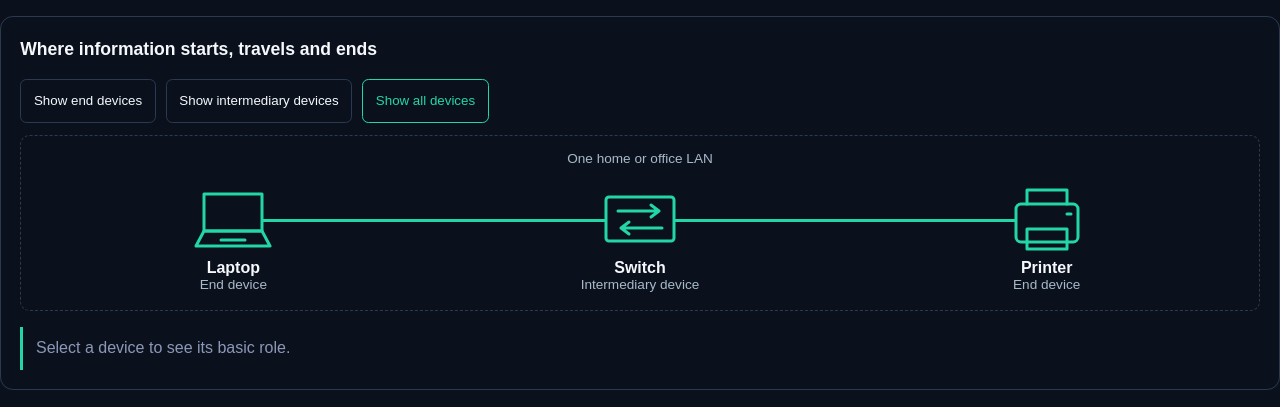
Scenario: NetworkBasicsDiagram › distinguishes end devices from the intermediary without removing devices
The width and height of the screenshot is (1280, 407).
Click the button "Show end devices". click: (88, 101)
box: [20,79,156,123]
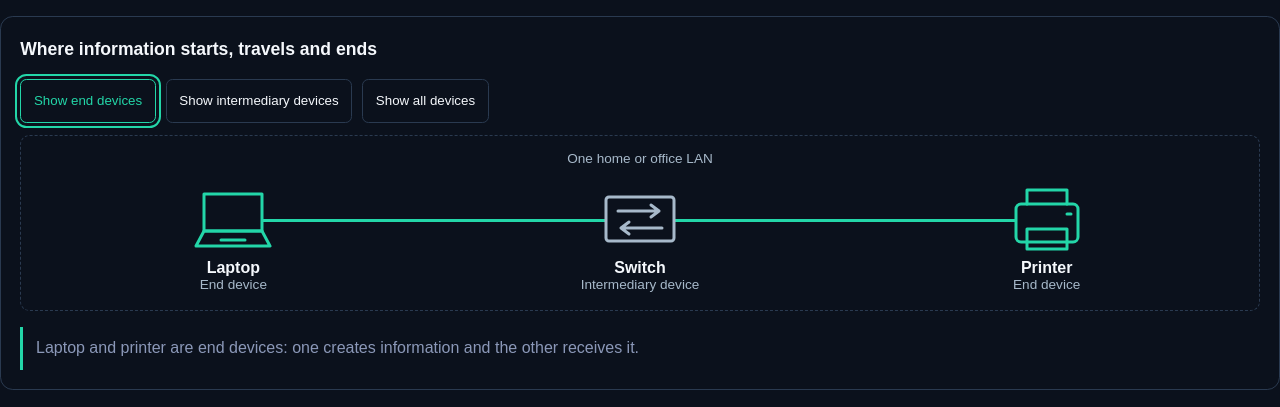
Now the message shows "Laptop and printer", box [36,339,639,356]
Click the button "Show intermediary devices". click: (259, 101)
box: [166,79,352,123]
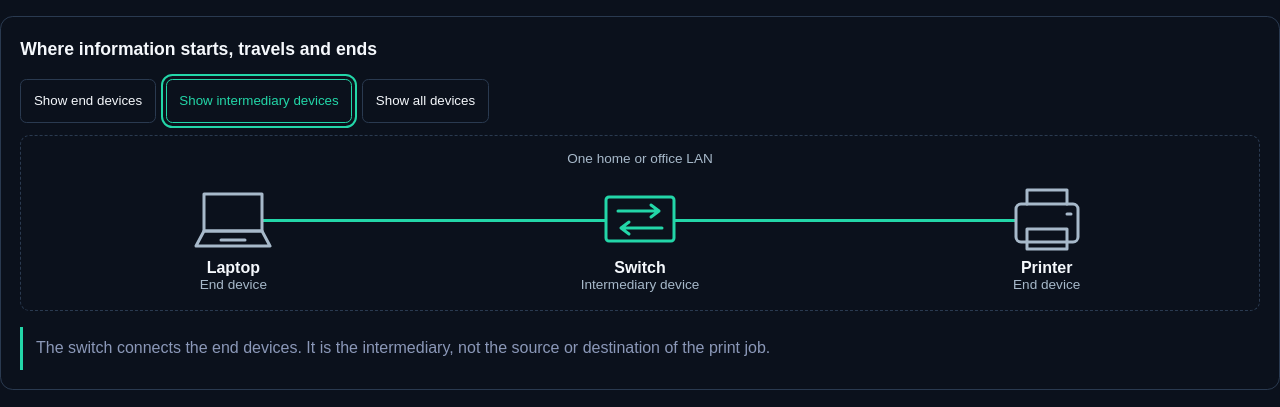
Expected: the button with aria-label "Explain Laptop" is shown, [34,179,433,297]
Now the message shows "switch connects", box [36,339,770,356]
